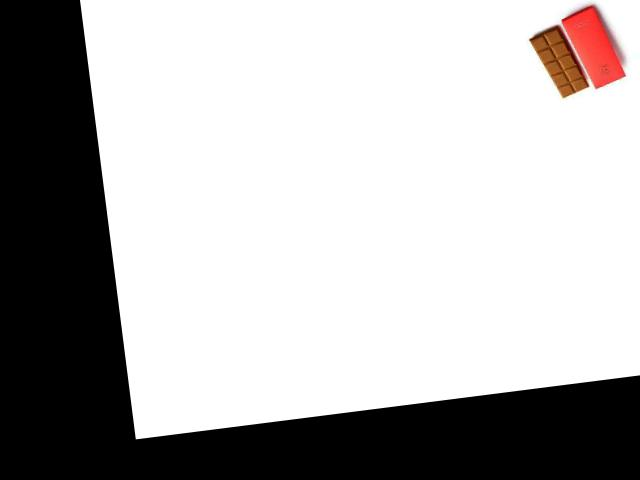chocolate: (527, 19, 594, 102)
